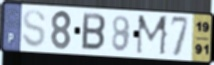7: (169, 14, 190, 59)
8: (50, 9, 72, 51), (111, 14, 132, 54)
B: (80, 11, 107, 52)
M: (135, 14, 170, 57)
S: (21, 8, 48, 49)
